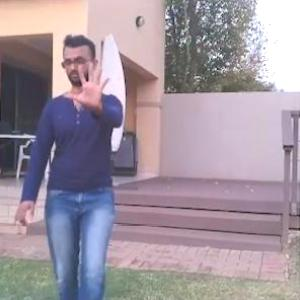follow_hand: (63, 59, 112, 109)
